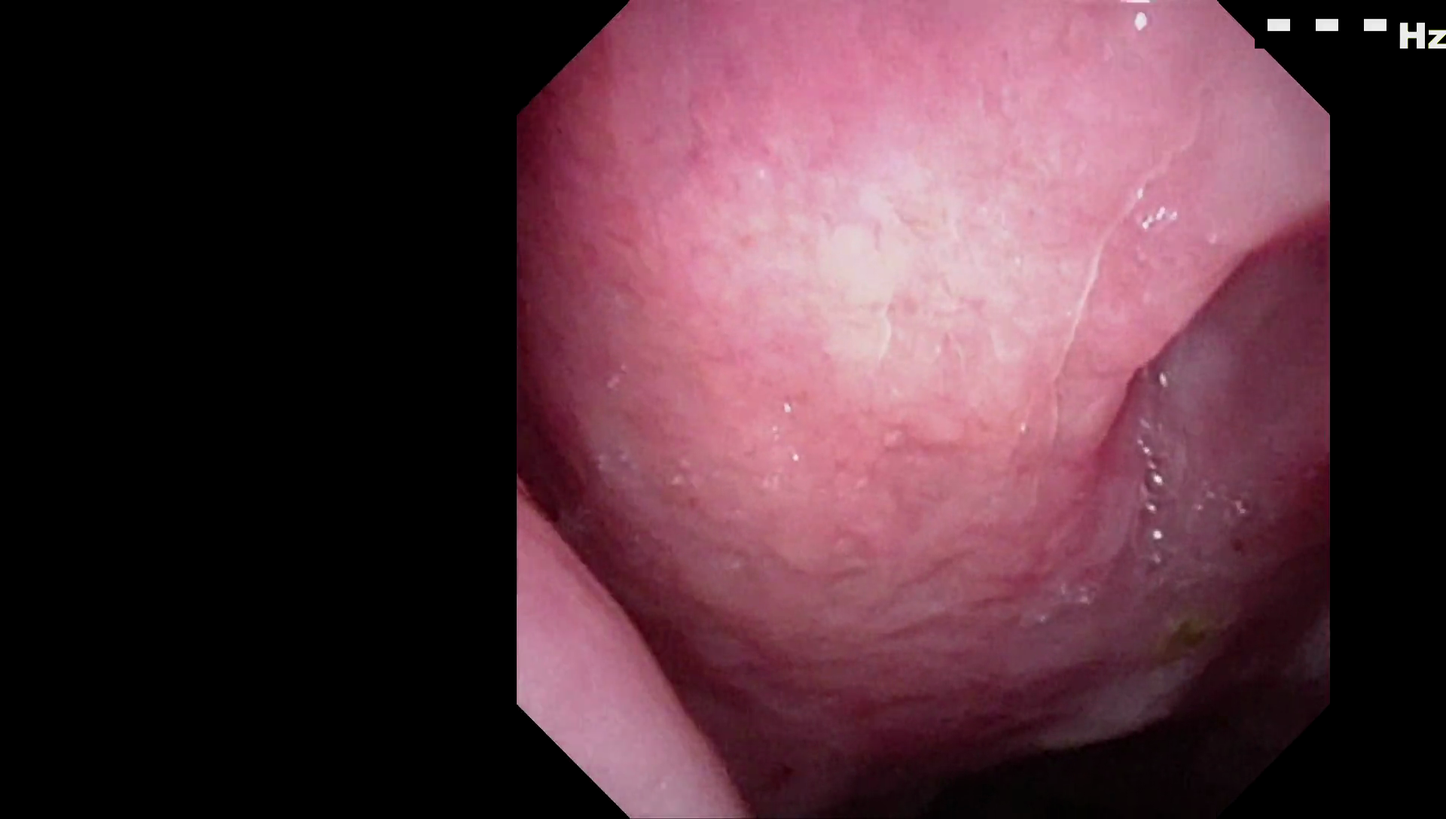close_wall: (612, 43, 1229, 552)
next: (737, 635, 1305, 819)
